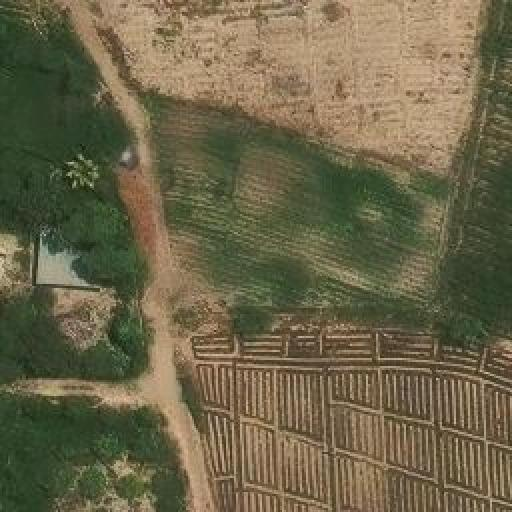manzanas: (31, 225, 109, 297)
